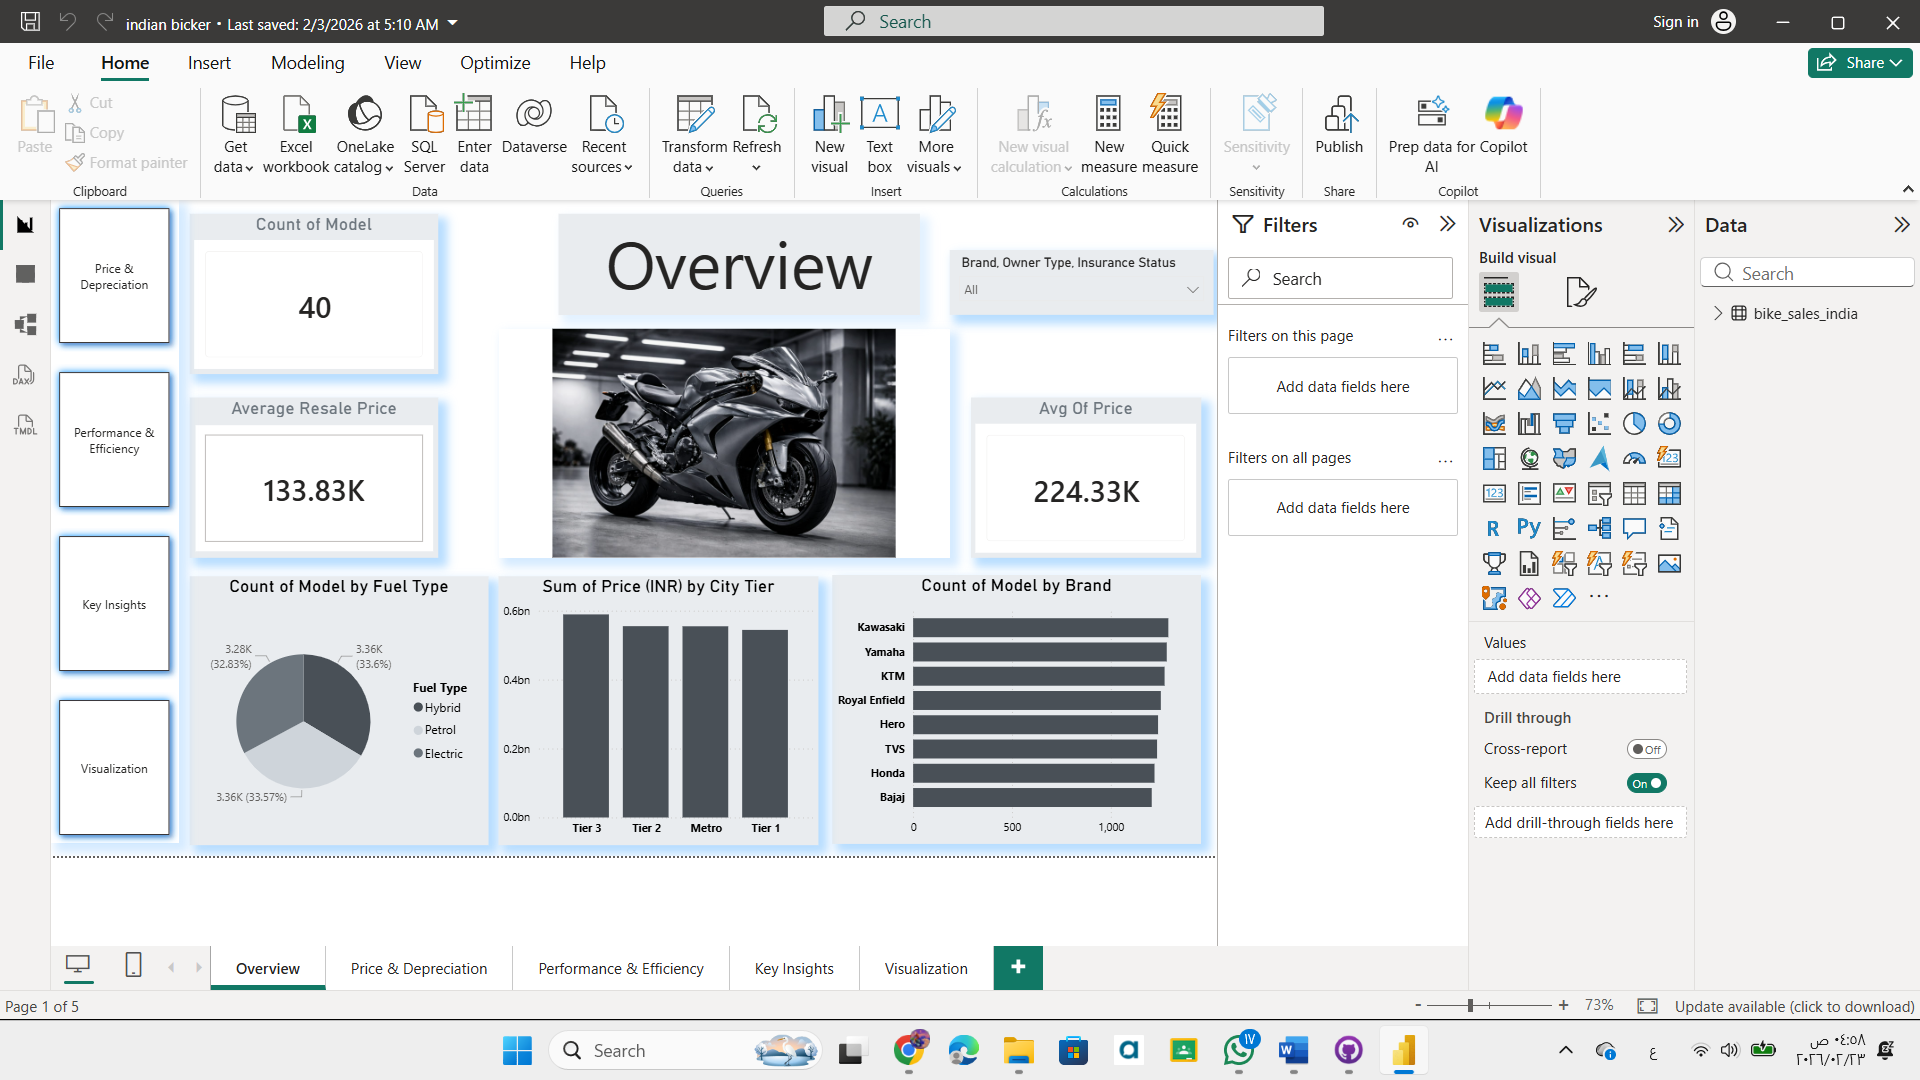

What the dashboard file says about the page in this screenshot:
{"tool":"powerbi","page":{"name":"Overview","canvas":[1280,720],"ordinal":0},"visuals":[{"type":"textbox","box":[557.1,15.1,396.6,111.1],"z":0},{"type":"cardVisual","title":"Count of Model","fields":{"Data":["Count(bike_sales_india.Model)"]},"box":[152.3,15.1,273.1,175.6],"z":1000},{"type":"cardVisual","title":"Avg Of Price","fields":{"Data":["Avg(bike_sales_india.Price (INR))"]},"box":[1010,216.8,252.5,175.6],"z":2000},{"type":"cardVisual","title":"Average Resale Price","fields":{"Data":["Avg(bike_sales_india.Resale Price (INR))"]},"box":[152.3,216.8,273.1,175.6],"z":3000},{"type":"clusteredBarChart","fields":{"Category":["bike_sales_india.Brand"],"Y":["CountNonNull(bike_sales_india.Model)"]},"box":[857.6,411.7,404.8,295],"z":4000},{"type":"pieChart","fields":{"Category":["bike_sales_india.Fuel Type"],"Y":["CountNonNull(bike_sales_india.Model)"]},"box":[152.3,413,328,295],"z":5000},{"type":"clusteredColumnChart","fields":{"Category":["bike_sales_india.City Tier"],"Y":["Sum(bike_sales_india.Price (INR))"]},"box":[491.3,413,351.3,295],"z":6000},{"type":"image","box":[491.3,141.3,495.4,251.1],"z":7000},{"type":"pageNavigator","box":[0,0,140,706.7],"z":7001},{"type":"slicer","fields":{"Values":["bike_sales_india.Brand","bike_sales_india.Owner Type","bike_sales_india.Insurance Status"]},"box":[986.6,54.9,289.5,71.4],"z":7002}]}

Visuals, with their boxes on the page's 1280x720 design canvas (x1, y1, x2, y2). These are canvas units, not pixel positions in the 1920x1080 screenshot, which may show the page scaled, cropped or inside an application window:
textbox: (x1=557, y1=15, x2=954, y2=126)
"Count of Model" cardVisual: (x1=152, y1=15, x2=425, y2=191)
"Avg Of Price" cardVisual: (x1=1010, y1=217, x2=1262, y2=392)
"Average Resale Price" cardVisual: (x1=152, y1=217, x2=425, y2=392)
clusteredBarChart - bike_sales_india.Brand x CountNonNull(bike_sales_india.Model): (x1=858, y1=412, x2=1262, y2=707)
pieChart - bike_sales_india.Fuel Type x CountNonNull(bike_sales_india.Model): (x1=152, y1=413, x2=480, y2=708)
clusteredColumnChart - bike_sales_india.City Tier x Sum(bike_sales_india.Price (INR)): (x1=491, y1=413, x2=843, y2=708)
image: (x1=491, y1=141, x2=987, y2=392)
pageNavigator: (x1=0, y1=0, x2=140, y2=707)
slicer - bike_sales_india.Brand x bike_sales_india.Owner Type: (x1=987, y1=55, x2=1276, y2=126)
